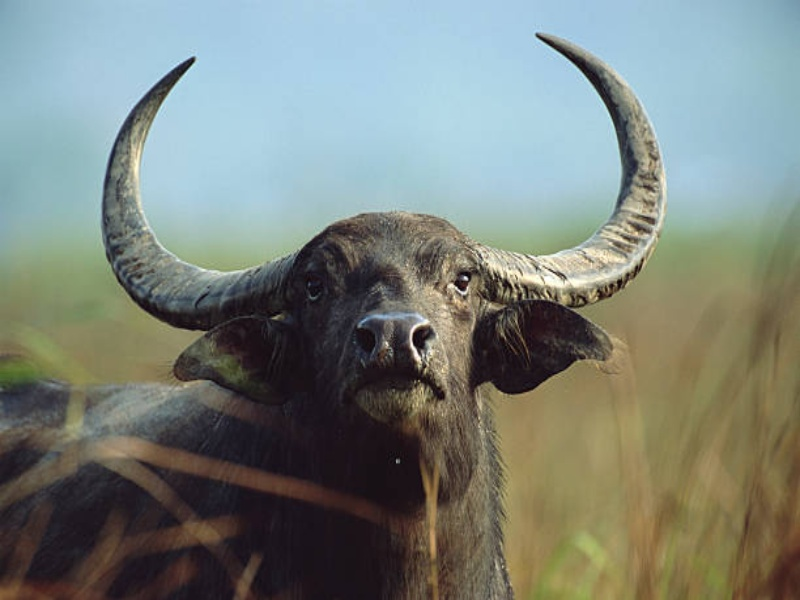buffalo: (14, 25, 672, 600)
